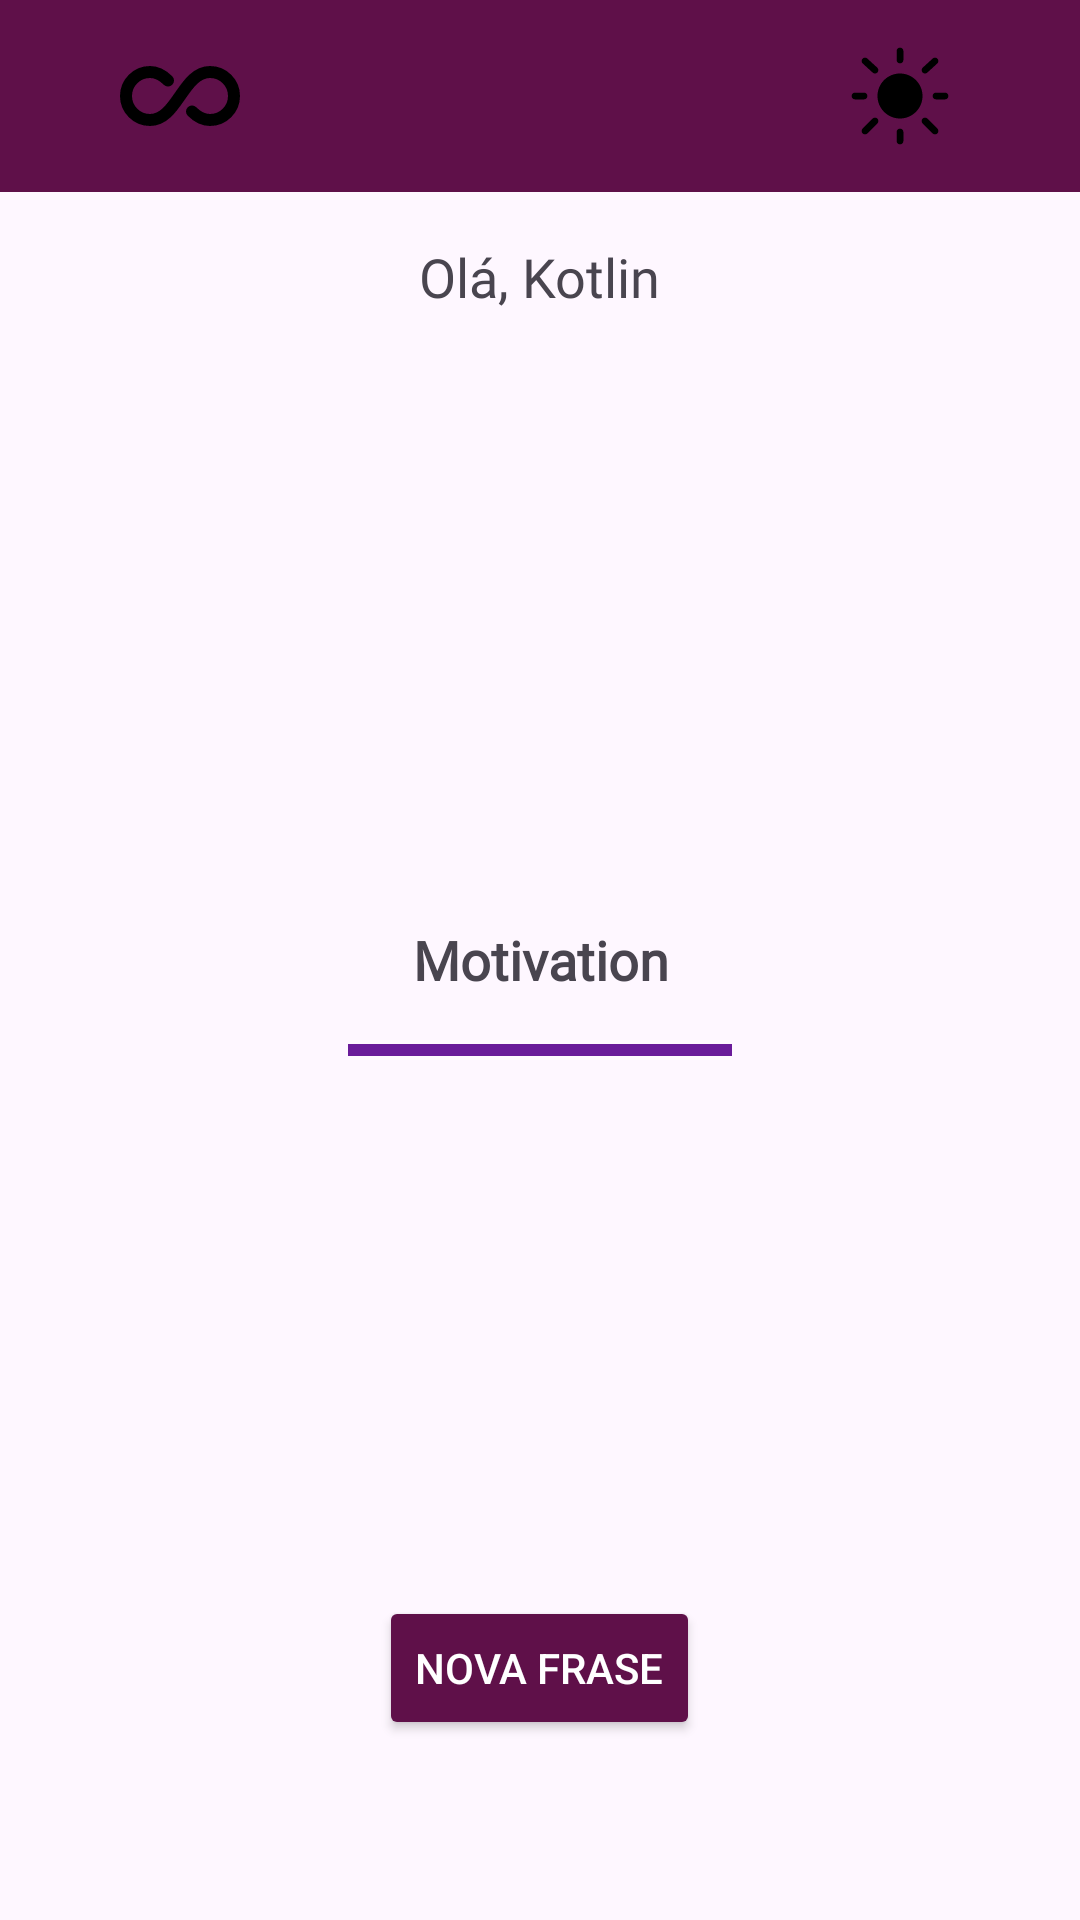

Where icons sit on this 1080px x 1920px app screen, as [x1=x1, y1=y1, x2=x2, y2=y2]:
infinite: [x1=120, y1=66, x2=240, y2=126]
sun: [x1=852, y1=48, x2=948, y2=144]
